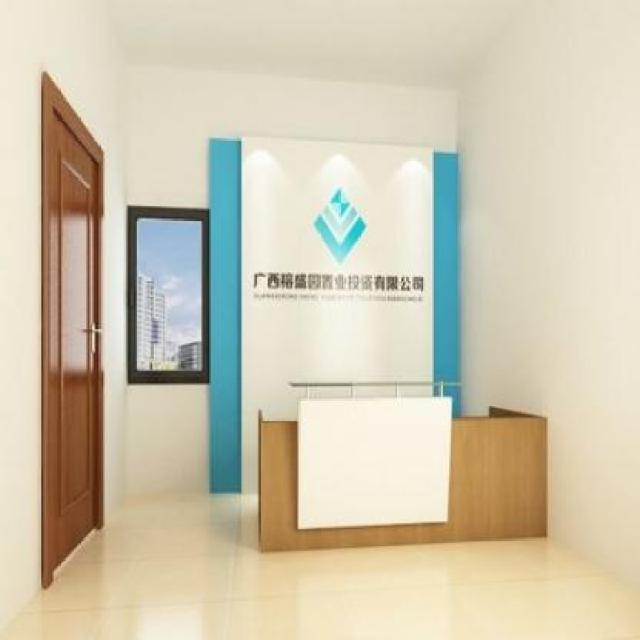frontdesk: (246, 358, 562, 558)
